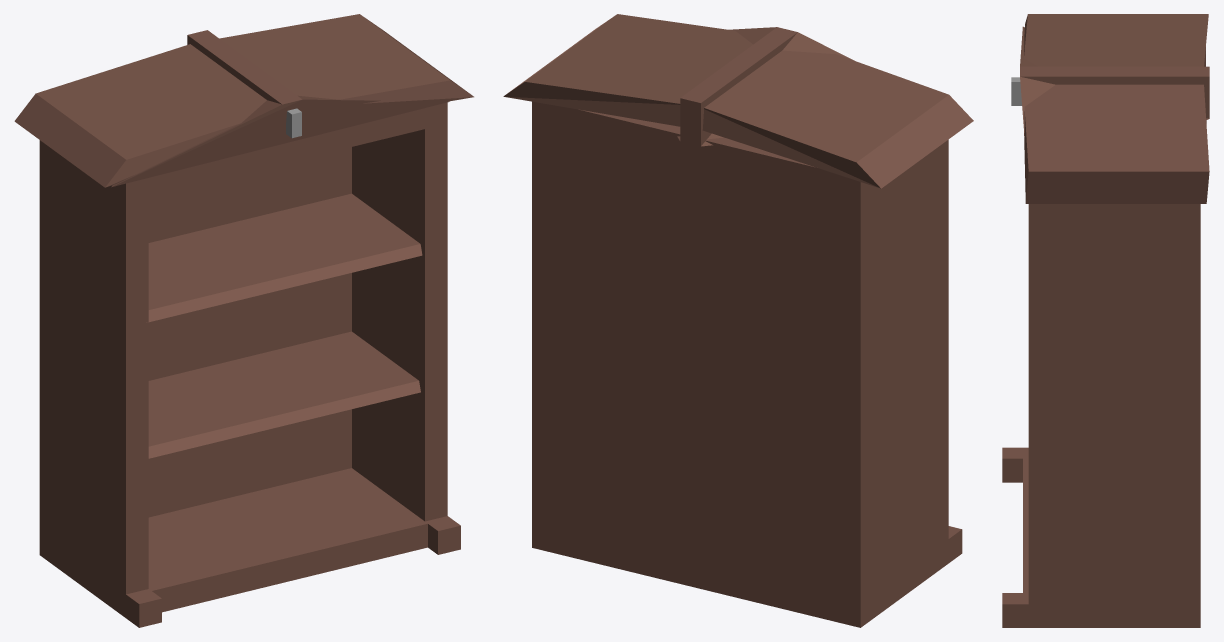
The picture shows the model from 3 angles, left to right: view 1: azimuth 30°, elevation 25°; view 2: azimuth 150°, elevation 25°; view 3: azimuth 270°, elevation 25°; orthographic projection. The views are drawn at different scales.
Size of the model in its own units: 1.46 by 1.81 by 0.71.
